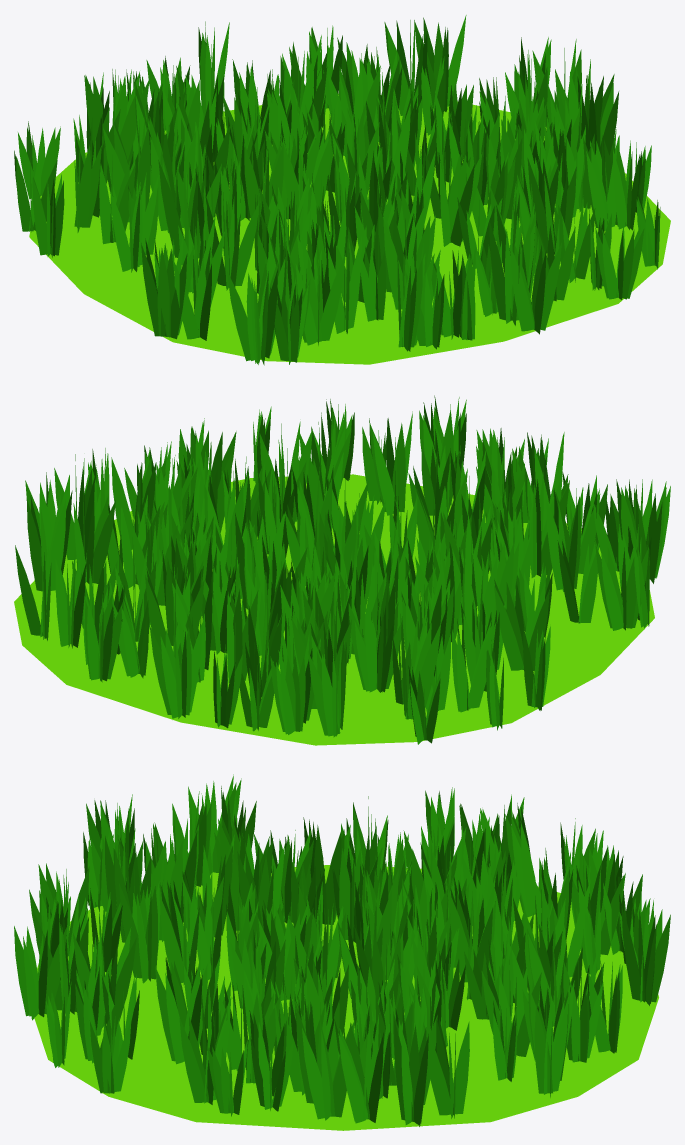
Rendered from grama redondo.fbx.
3 views of the same model, one above another, from view 1: azimuth 30°, elevation 25°; view 2: azimuth 150°, elevation 25°; view 3: azimuth 270°, elevation 25° (orthographic). The views are drawn at different scales.
Parts seen in each view (by area): view 1: Plane, Plane|Plane.002|Dupli|425, Plane|Plane.002|Dupli|788, Plane|Plane.002|Dupli|418, Plane|Plane.002|Dupli|426, Plane|Plane.002|Dupli|567, Plane|Plane.002|Dupli|974, Plane|Plane.002|Dupli|710, Plane|Plane.002|Dupli|224, Plane|Plane.002|Dupli|382, Plane|Plane.002|Dupli|1079, Plane|Plane.002|Dupli|776 (+40 smaller); view 2: Plane, Plane|Plane.002|Dupli|626, Plane|Plane.002|Dupli|1051, Plane|Plane.002|Dupli|469, Plane|Plane.002|Dupli|1021, Plane|Plane.002|Dupli|916, Plane|Plane.002|Dupli|911, Plane|Plane.002|Dupli|522, Plane|Plane.002|Dupli|421, Plane|Plane.002|Dupli|879, Plane|Plane.002|Dupli|479, Plane|Plane.002|Dupli|692 (+35 smaller); view 3: Plane, Plane|Plane.002|Dupli|316, Plane|Plane.002|Dupli|1071, Plane|Plane.002|Dupli|766, Plane|Plane.002|Dupli|159, Plane|Plane.002|Dupli|158, Plane|Plane.002|Dupli|825, Plane|Plane.002|Dupli|1048, Plane|Plane.002|Dupli|751, Plane|Plane.002|Dupli|393, Plane|Plane.002|Dupli|934, Plane|Plane.002|Dupli|151 (+45 smaller).
Boxes of the visible parts, x1,y1,x2,y2 form: Plane: (29, 94, 670, 364); Plane|Plane.002|Dupli|425: (510, 245, 534, 331); Plane|Plane.002|Dupli|788: (158, 159, 184, 257); Plane|Plane.002|Dupli|418: (320, 253, 345, 340); Plane|Plane.002|Dupli|426: (489, 221, 512, 320); Plane|Plane.002|Dupli|567: (383, 219, 403, 309); Plane|Plane.002|Dupli|974: (141, 243, 166, 336); Plane|Plane.002|Dupli|710: (227, 271, 250, 361); Plane|Plane.002|Dupli|224: (157, 248, 169, 336); Plane|Plane.002|Dupli|382: (230, 200, 259, 285); Plane|Plane.002|Dupli|1079: (74, 144, 91, 227); Plane|Plane.002|Dupli|776: (110, 190, 133, 271); Plane: (14, 474, 654, 745); Plane|Plane.002|Dupli|626: (494, 585, 523, 670); Plane|Plane.002|Dupli|1051: (15, 545, 42, 635); Plane|Plane.002|Dupli|469: (92, 500, 115, 583); Plane|Plane.002|Dupli|1021: (392, 423, 405, 512); Plane|Plane.002|Dupli|916: (26, 498, 42, 591); Plane|Plane.002|Dupli|911: (111, 457, 132, 549); Plane|Plane.002|Dupli|522: (601, 551, 623, 630); Plane|Plane.002|Dupli|421: (372, 432, 396, 515); Plane|Plane.002|Dupli|879: (416, 623, 441, 708); Plane|Plane.002|Dupli|479: (469, 622, 496, 708); Plane|Plane.002|Dupli|692: (546, 499, 562, 590); Plane: (34, 865, 658, 1130); Plane|Plane.002|Dupli|316: (423, 1022, 450, 1115); Plane|Plane.002|Dupli|1071: (338, 1033, 368, 1123); Plane|Plane.002|Dupli|766: (453, 1021, 469, 1114); Plane|Plane.002|Dupli|159: (302, 1028, 331, 1119); Plane|Plane.002|Dupli|158: (179, 1018, 207, 1102); Plane|Plane.002|Dupli|825: (159, 895, 183, 982); Plane|Plane.002|Dupli|1048: (621, 905, 643, 1000); Plane|Plane.002|Dupli|751: (534, 1004, 549, 1093); Plane|Plane.002|Dupli|393: (165, 973, 184, 1064); Plane|Plane.002|Dupli|934: (447, 887, 469, 982); Plane|Plane.002|Dupli|151: (551, 1000, 568, 1091).
Bounding box in the file's own units: 216 × 38.11 × 224.
